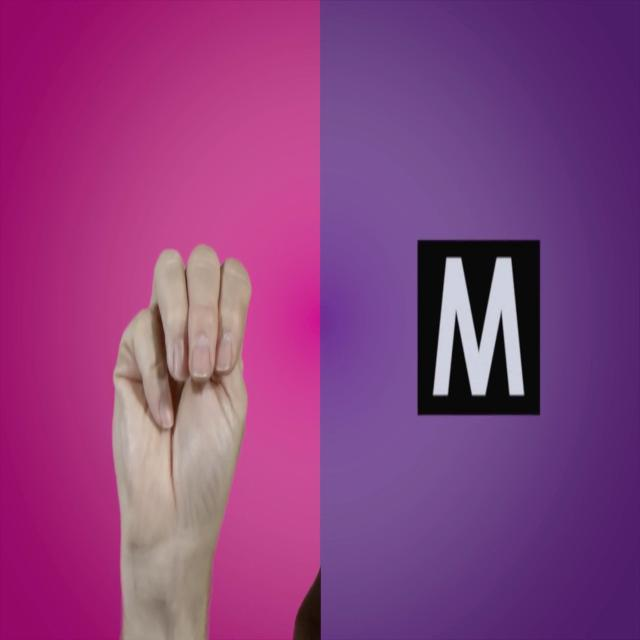M: (83, 225, 281, 640)
